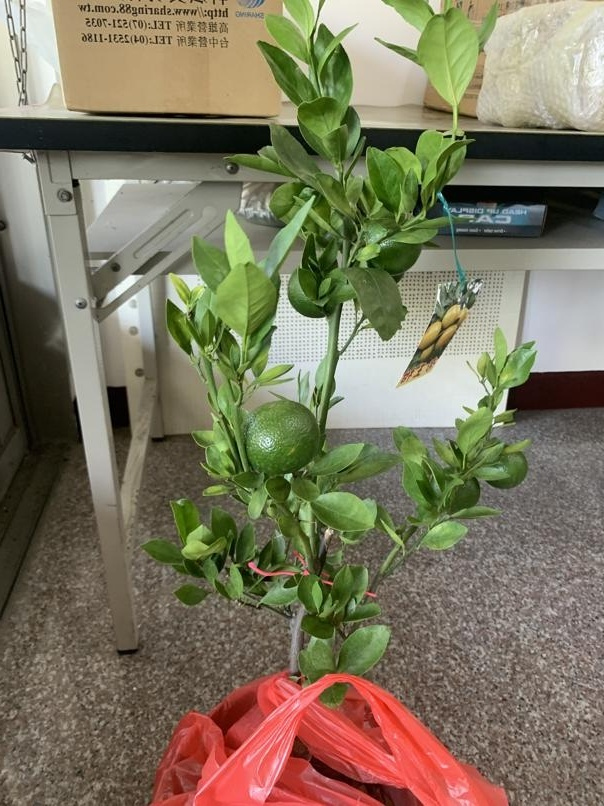Tangerine: (237, 391, 321, 475)
